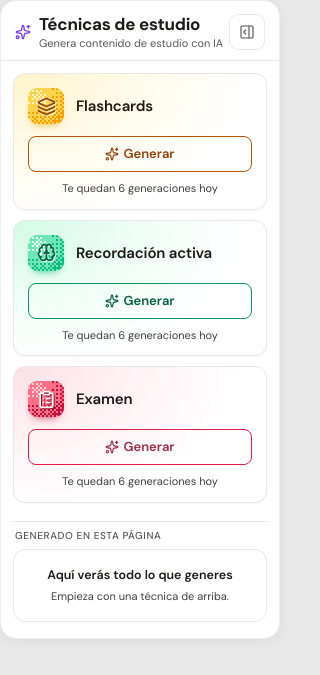
Test: TechniquesPanel › flashcards (real data) › tells the student how many words were used when the page was truncated
Click the button with test id "generate-flashcards" at (140, 154), box [28, 136, 252, 172]
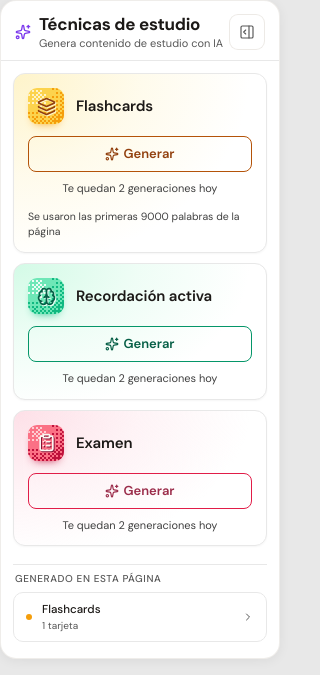
expect the text with test id "generation-notice" reads "Se usaron las primeras 9000 palabras de la página": met, box [28, 210, 240, 238]
